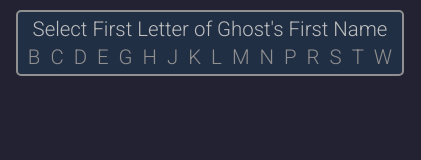
Scenario: renders the correct header after user clicks on a first name first letter option
What coordinates should you click on to do the following:
click the button "B"
I would click on:
 (34, 57)
Its box is [28,45,40,69].
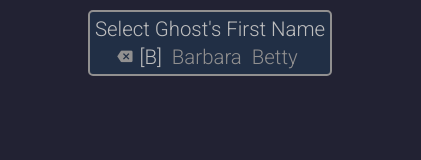
expect the text "Select Ghost's First Name" is shown: met, box [95,17,325,41]
